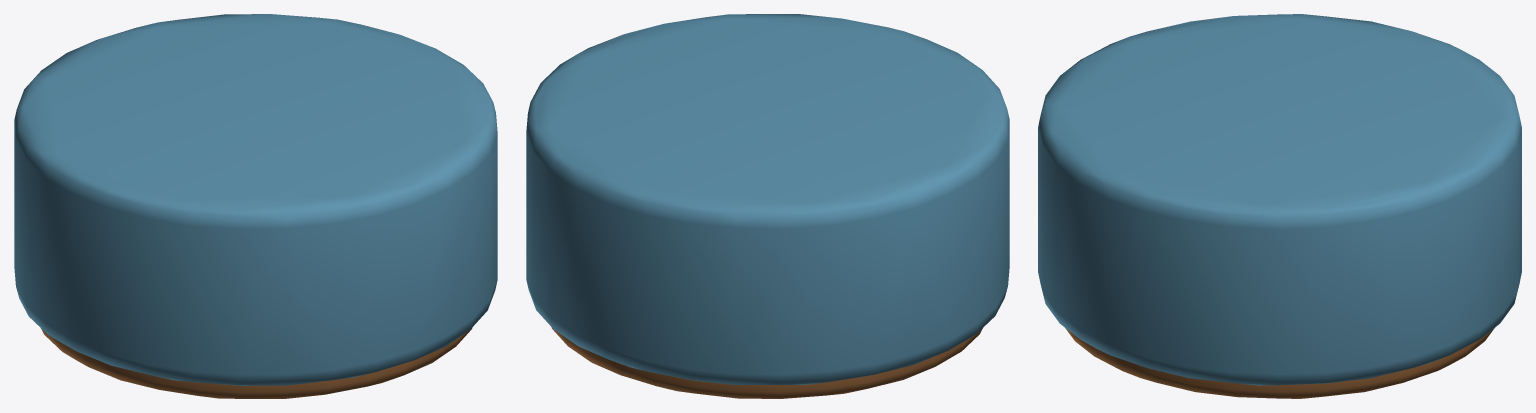
Rendered from stool_04_blue.fbx.
3 renders of one model, left to right at view 1: azimuth 30°, elevation 25°; view 2: azimuth 150°, elevation 25°; view 3: azimuth 270°, elevation 25°, orthographic.
Visible parts, largest first — view 1: stool_04_blue; view 2: stool_04_blue; view 3: stool_04_blue.
Part boxes in pixels (box(x1,y1,x2,y2)): stool_04_blue: box(14, 14, 497, 398); stool_04_blue: box(526, 14, 1009, 398); stool_04_blue: box(1038, 14, 1521, 398).
Bounding box in the file's own units: 86.76 × 38.97 × 86.76.
2 materials, 2 textured.
